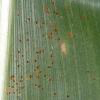Corn rust leaf: (1, 0, 100, 99)
